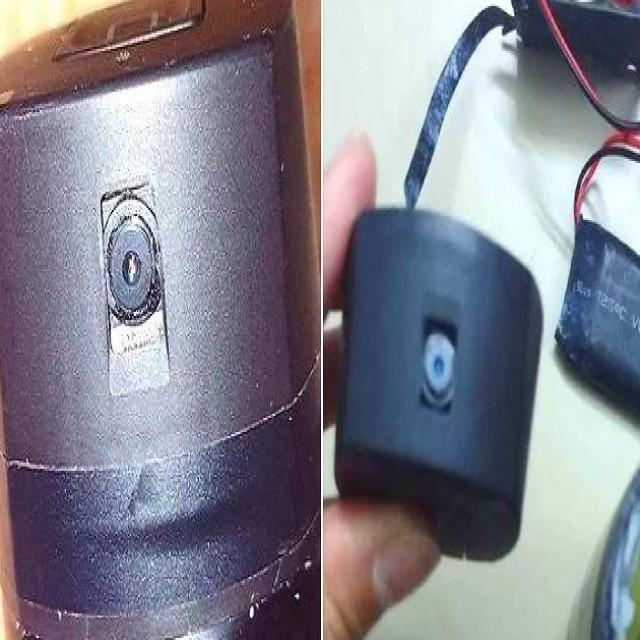hidden camera: (102, 204, 161, 326), (422, 320, 458, 410)
